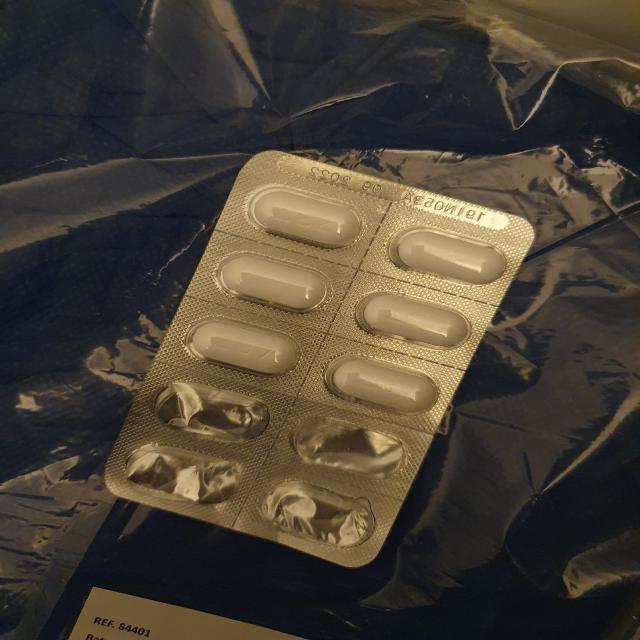Empty: (108, 435, 258, 520), (134, 373, 289, 455), (279, 407, 423, 492), (245, 473, 387, 558)
Pill: (230, 177, 383, 258), (199, 243, 346, 325), (166, 310, 317, 389), (373, 220, 525, 298), (340, 282, 490, 361), (310, 344, 450, 425)
